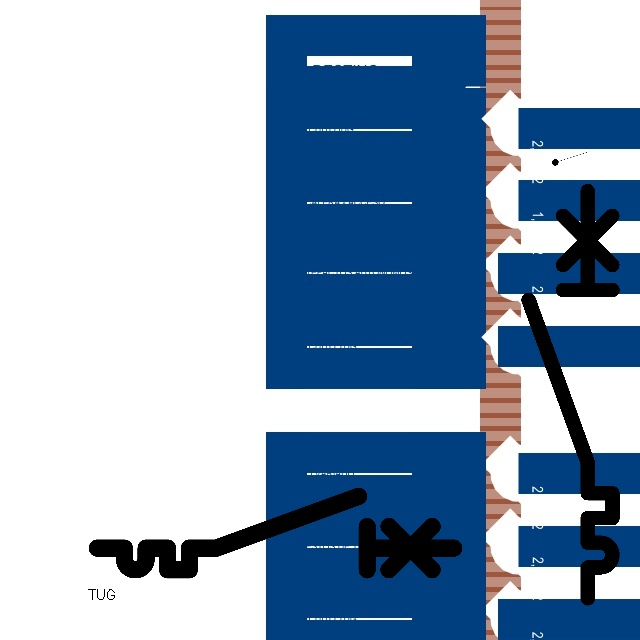interruptor_termomagnetico: (518, 180, 623, 609), (88, 487, 462, 579)
